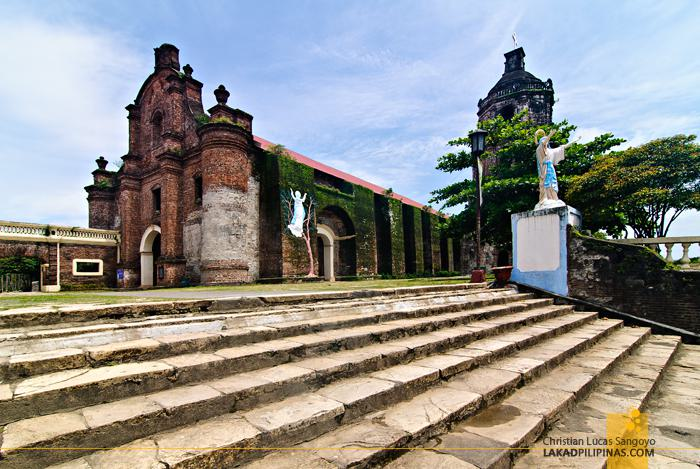Environmental Damage: (195, 112, 248, 128), (97, 176, 117, 192)
Sta. Maria Church: (86, 36, 258, 284)
Unfinished Paint: (182, 186, 259, 261)
